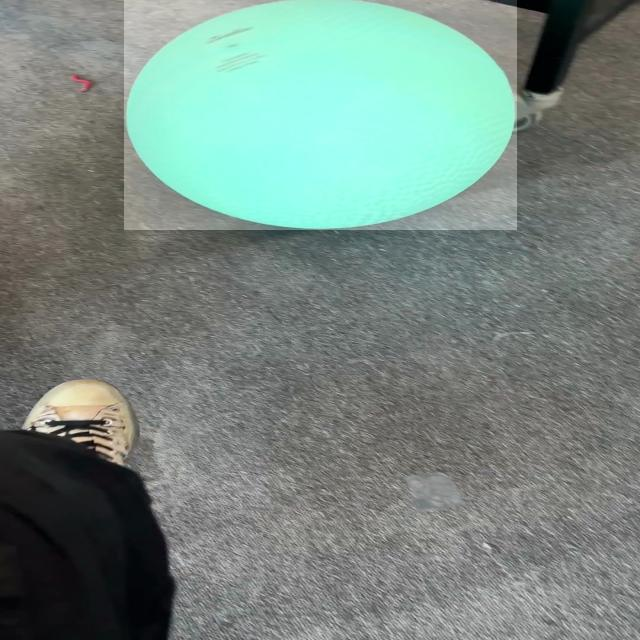Algae: (124, 0, 517, 230)
